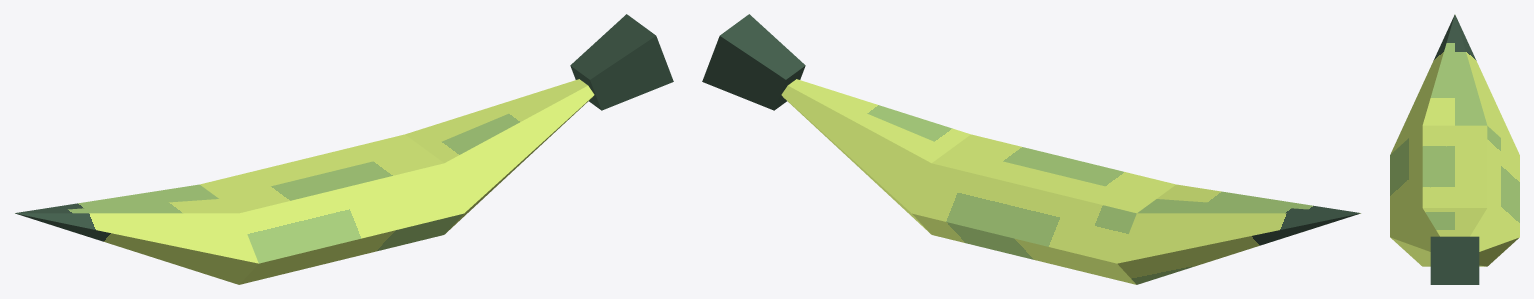
Rendered from Banana.gltf.
3 views of the same model, side by side, from view 1: azimuth 30°, elevation 25°; view 2: azimuth 150°, elevation 25°; view 3: azimuth 270°, elevation 25° (orthographic). The views are drawn at different scales.
Visible parts, largest first — view 1: cuboid (×2); view 2: cuboid (×2); view 3: cuboid (×2).
Part boxes in pixels (x1,y1,x2,y2): cuboid (×2): (15,14,673,284); cuboid (×2): (702,14,1360,284); cuboid (×2): (1390,14,1519,284).
Bounding box in the file's own units: 1.18 × 0.2492 × 0.25.
1 material, 1 textured.
